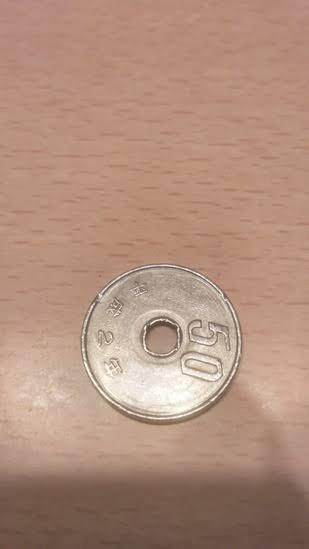year: (83, 269, 149, 390)
